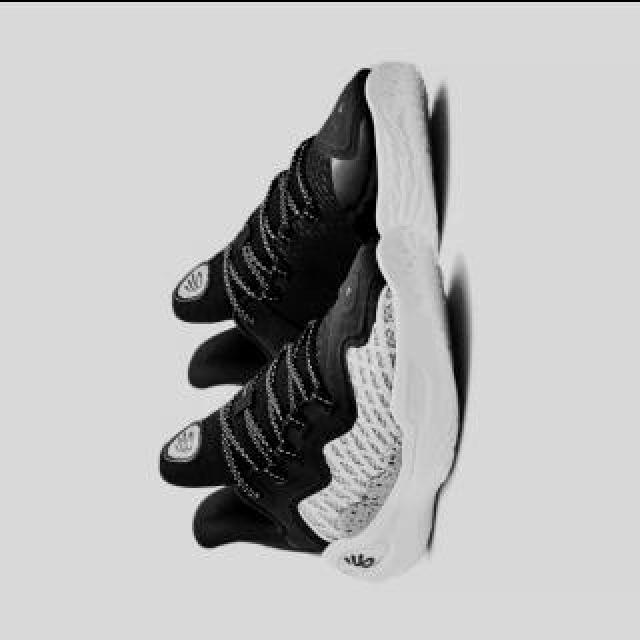shoe: (159, 235, 463, 581), (173, 60, 441, 416)
